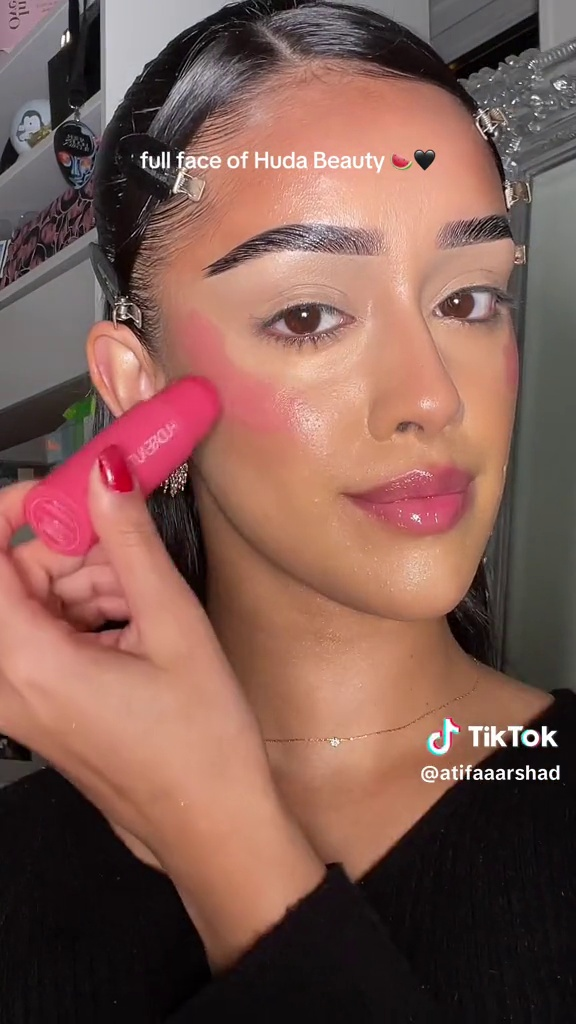train' :'yolo_data/train/images',: (11, 355, 248, 553)
